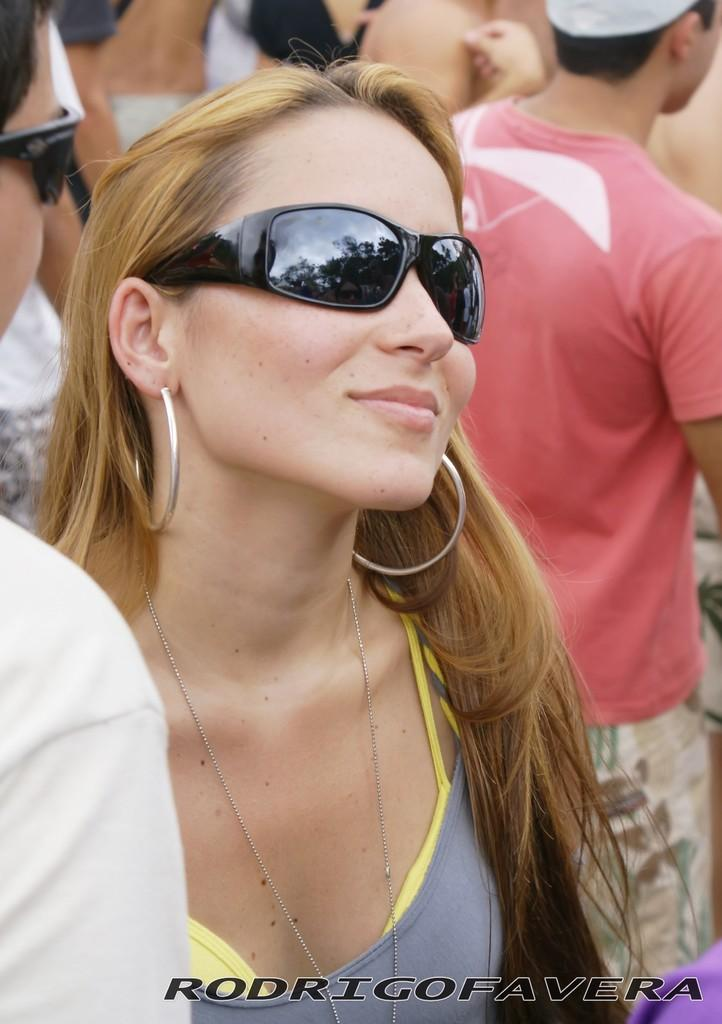Hat: (544, 0, 696, 37)
